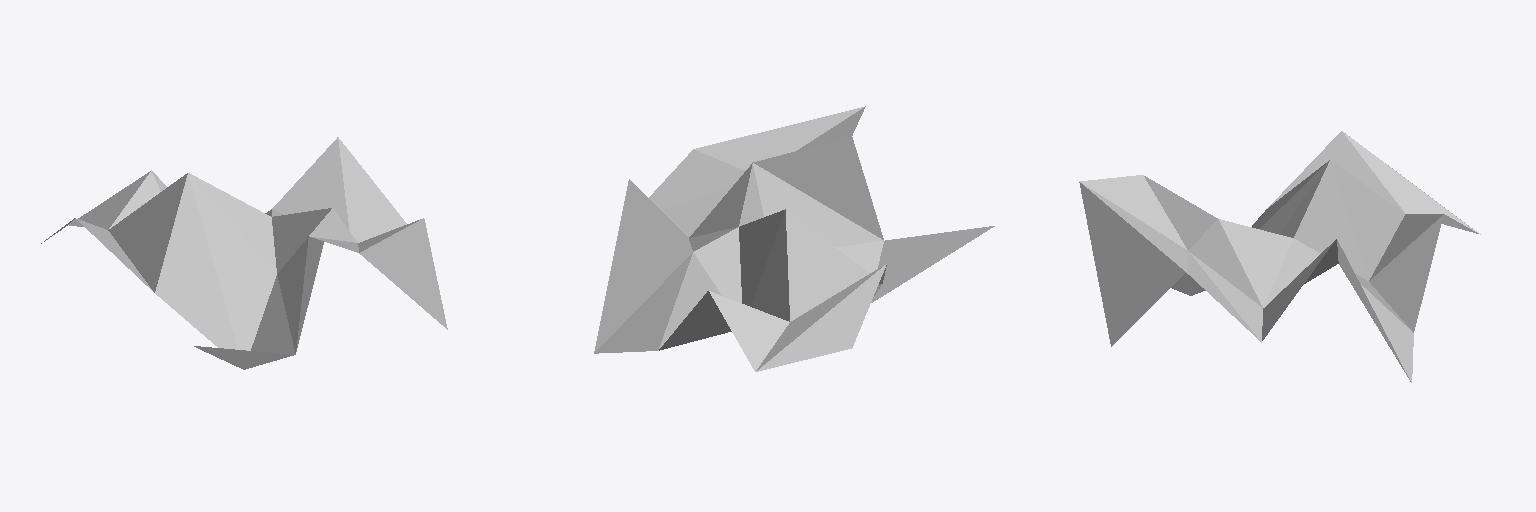
Rendered from ScrapPaper2.obj.
3 views of the same model, side by side, from view 1: azimuth 30°, elevation 25°; view 2: azimuth 150°, elevation 25°; view 3: azimuth 270°, elevation 25° (orthographic).
Visible parts, largest first — view 1: ScrapPaper2; view 2: ScrapPaper2; view 3: ScrapPaper2.
Part boxes in pixels (bbox=[...]): ScrapPaper2: bbox=[41, 137, 447, 369]; ScrapPaper2: bbox=[594, 106, 994, 371]; ScrapPaper2: bbox=[1079, 131, 1480, 382].
Bounding box in the file's own units: 4.1 × 1.94 × 4.67.